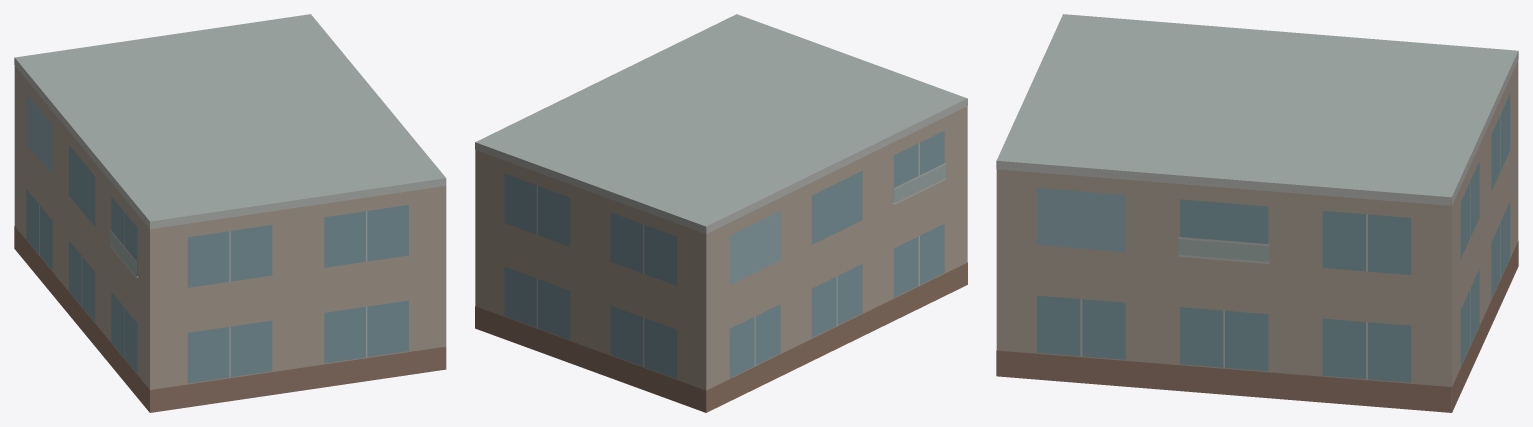
The model's file is survey-upis-32711413.glb.
3 renders of one model, left to right at view 1: azimuth 30°, elevation 25°; view 2: azimuth 150°, elevation 25°; view 3: azimuth 270°, elevation 25°, orthographic. The views are drawn at different scales.
Visible parts, largest first — view 1: survey-upis-32711413.tmp; view 2: survey-upis-32711413.tmp; view 3: survey-upis-32711413.tmp.
Boxes of the visible parts, x1=… form: survey-upis-32711413.tmp: x1=14, y1=14, x2=446, y2=412; survey-upis-32711413.tmp: x1=475, y1=14, x2=967, y2=412; survey-upis-32711413.tmp: x1=996, y1=14, x2=1518, y2=412.
Bounding box in the file's own units: 11.14 × 6.1 × 13.4.
